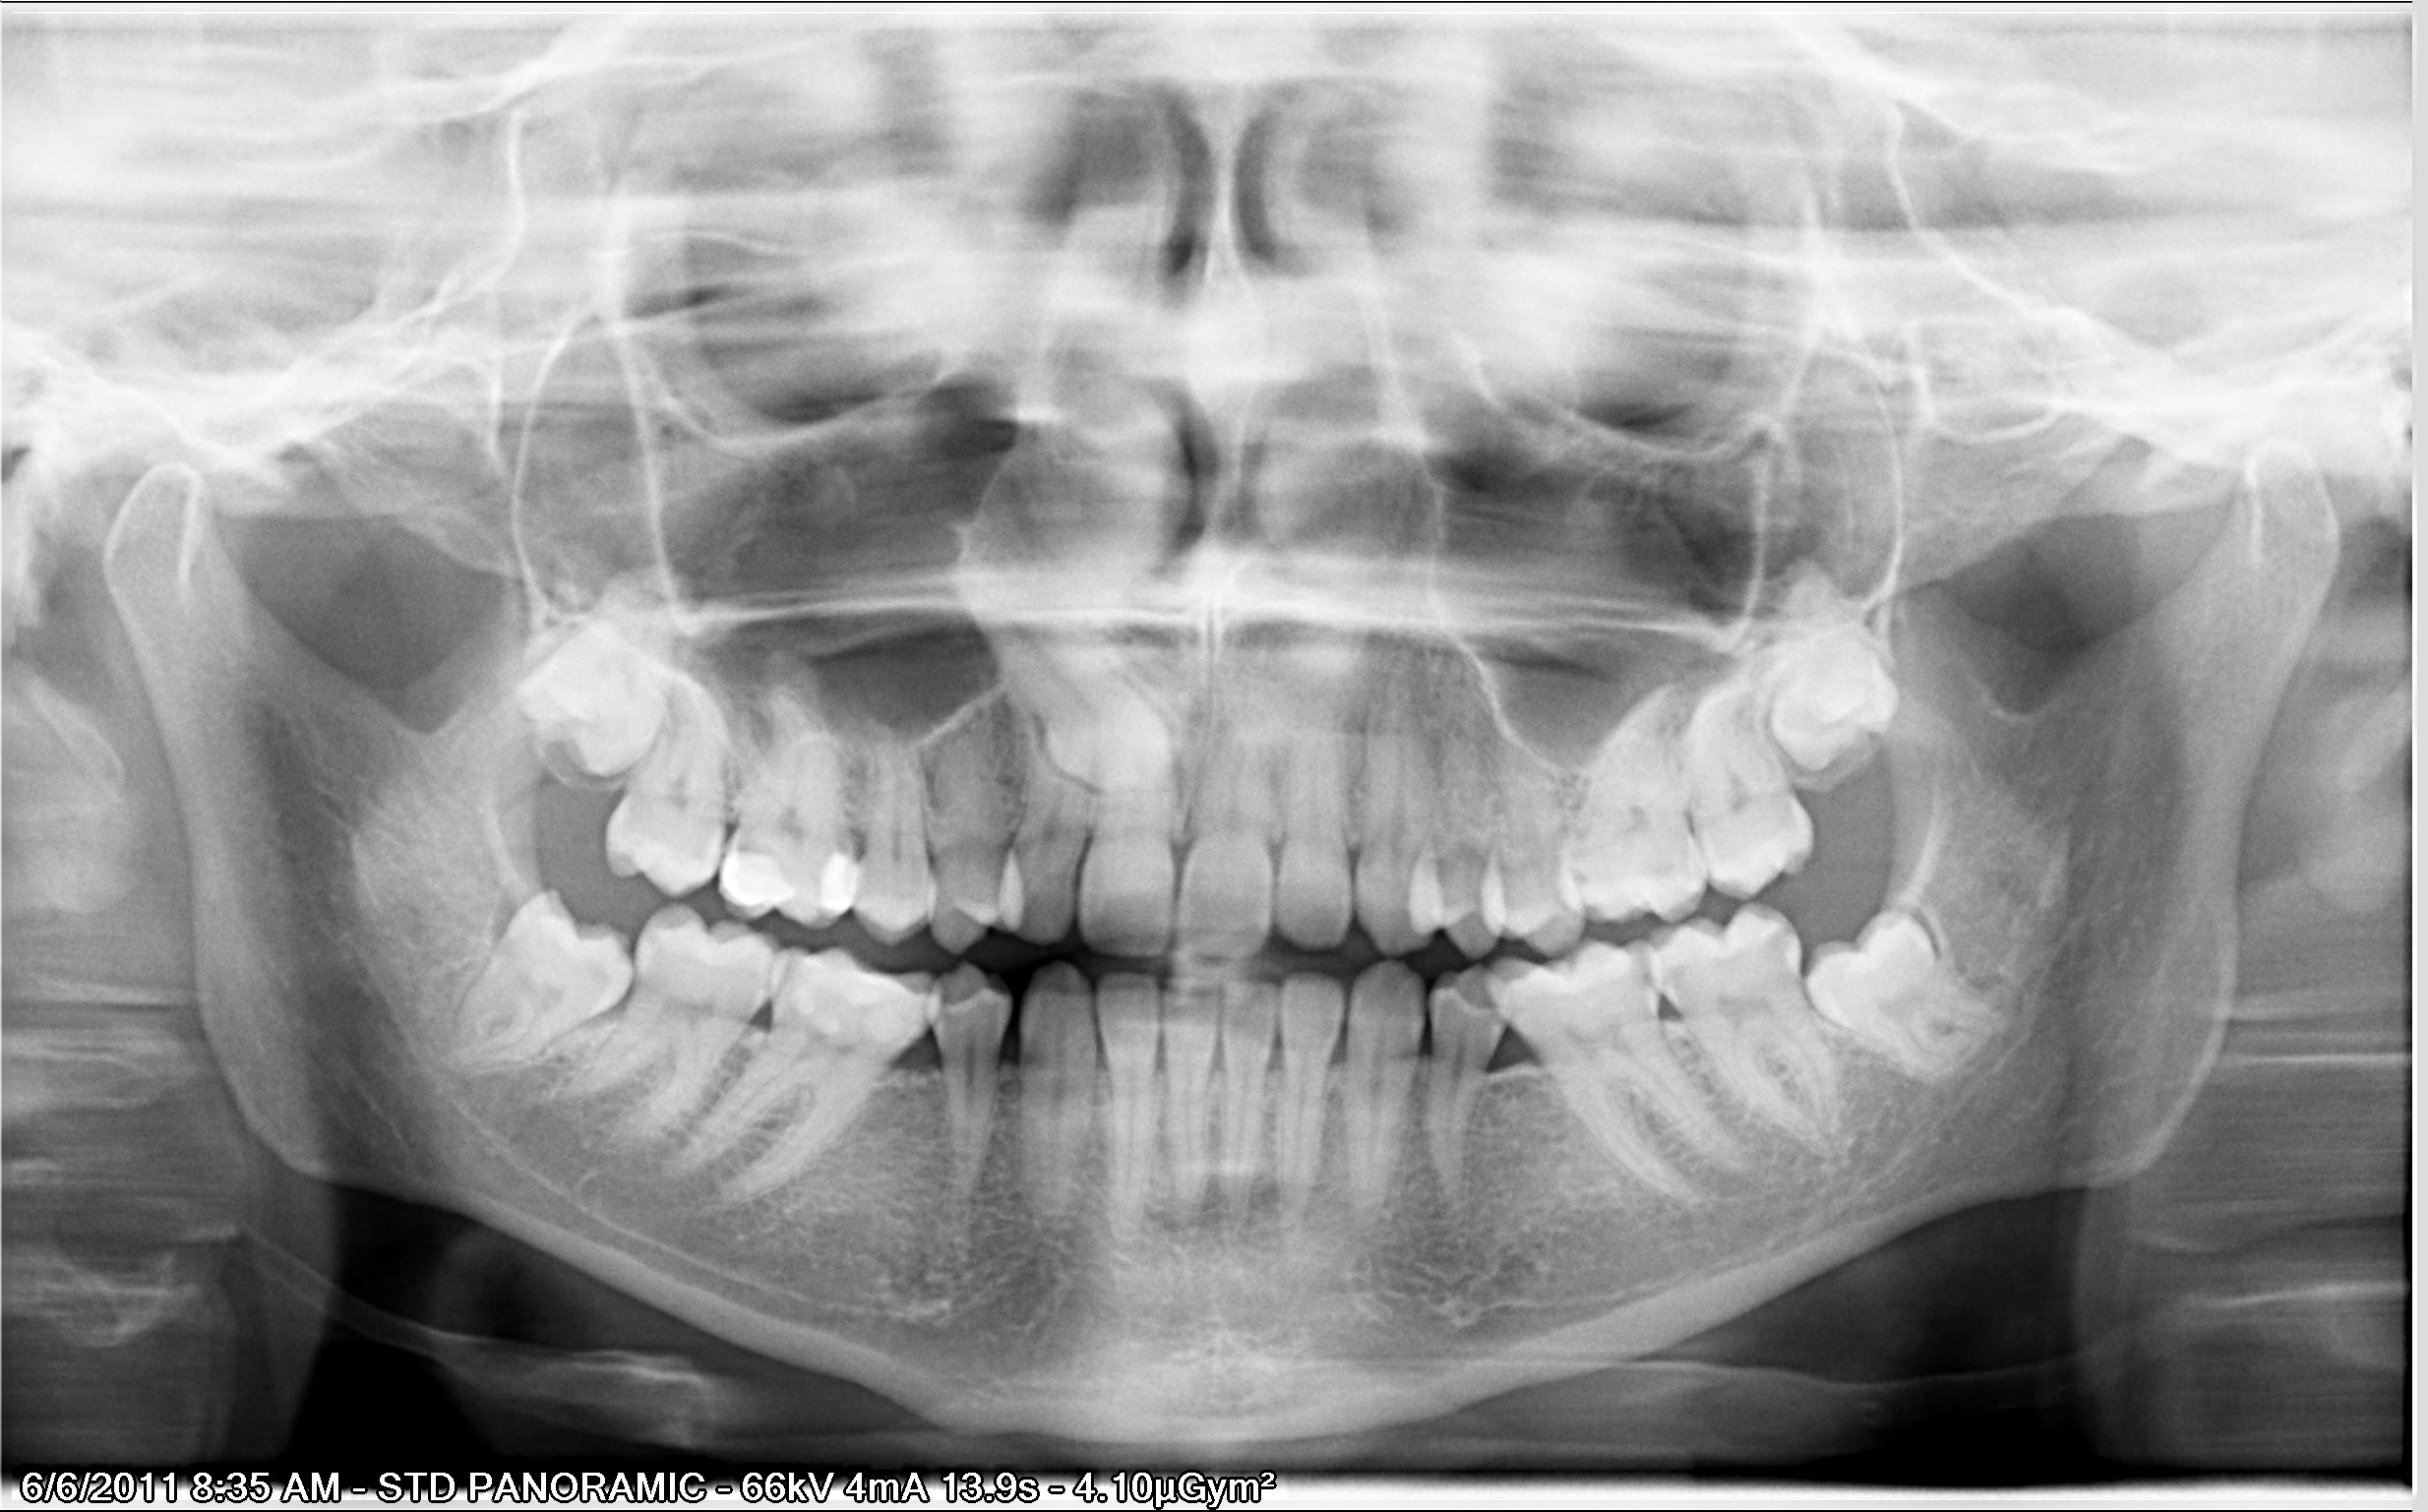CAR: (1768, 916, 1797, 955)
IMT: (516, 566, 678, 777)
OBT: (719, 850, 792, 906)
